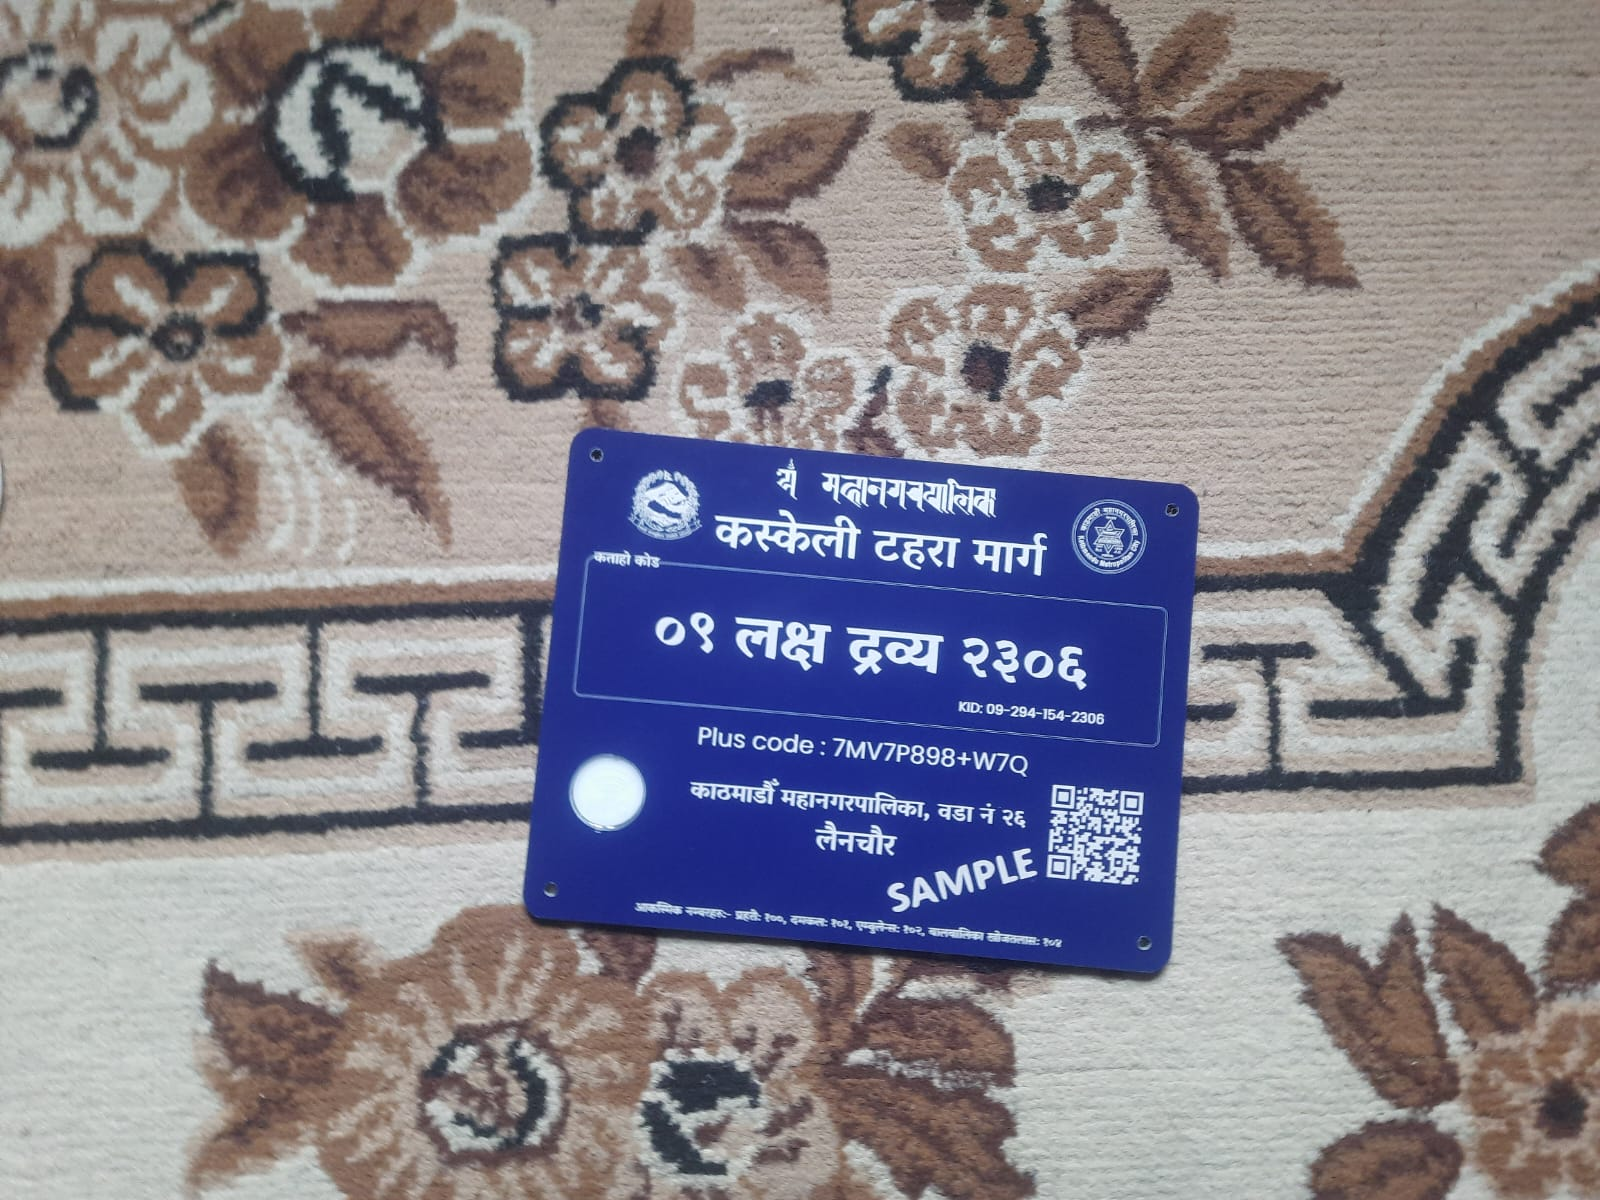Plate: (518, 419, 1210, 984)
